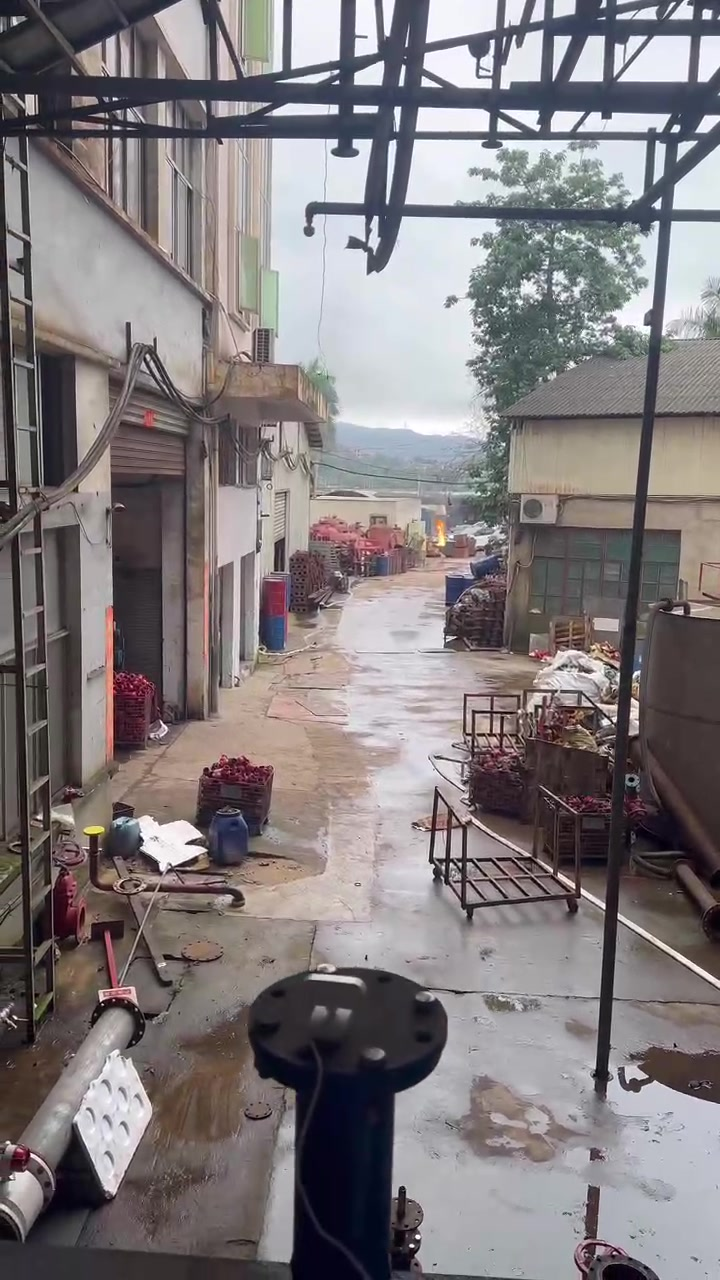fire: (434, 518, 445, 545)
